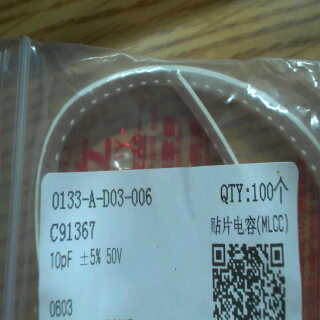10pF: (47, 242, 77, 274)
